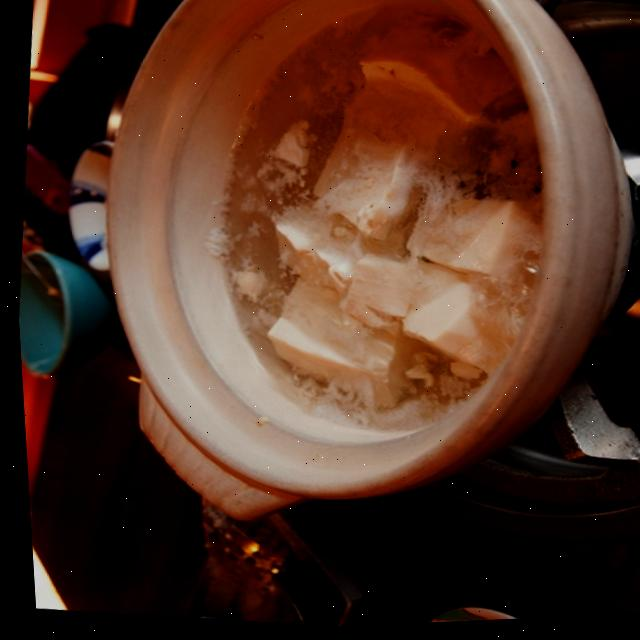豆腐料理: (48, 0, 640, 517)
